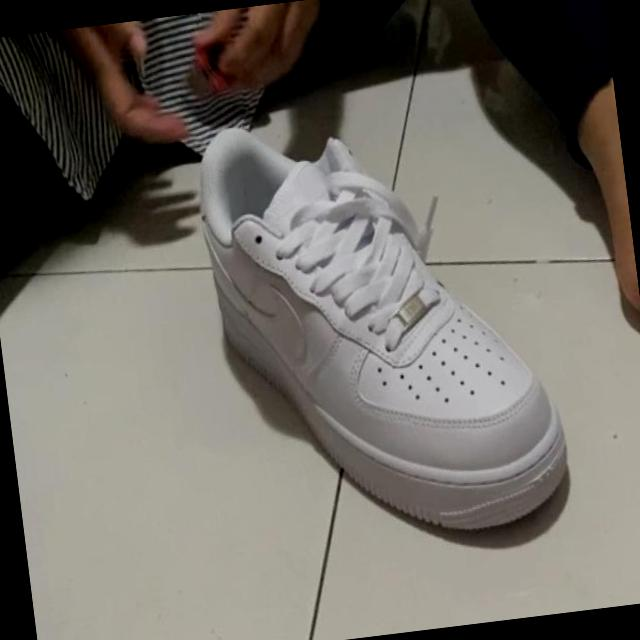nike_original_airforce: (178, 87, 574, 564)
